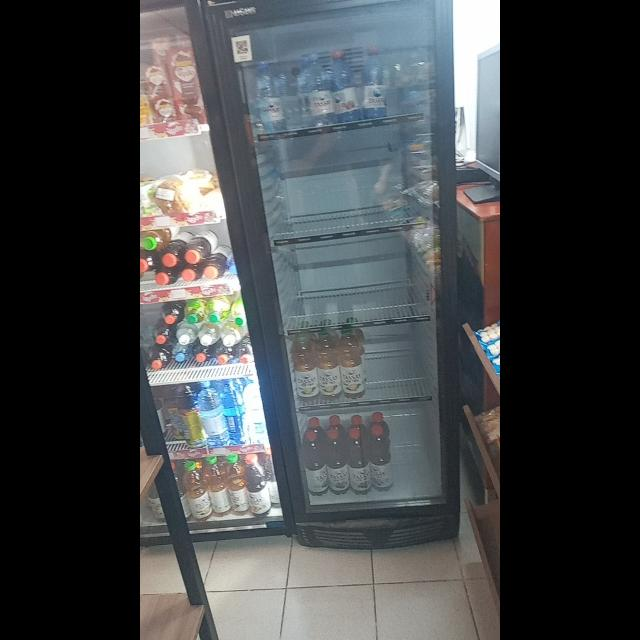Cooling-Display: (202, 0, 460, 546)
